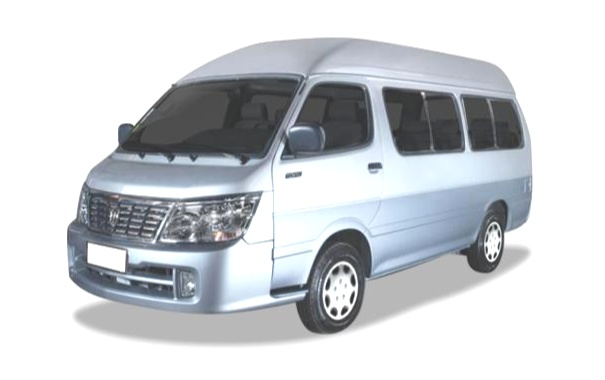van: (64, 36, 546, 328)
